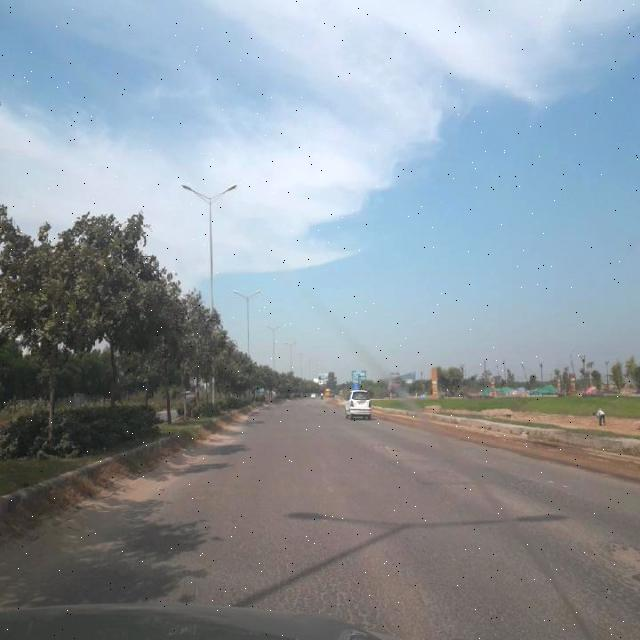D20: (452, 534, 640, 638), (203, 515, 385, 609), (511, 471, 597, 524)
D40: (599, 527, 640, 587), (365, 435, 402, 461)
